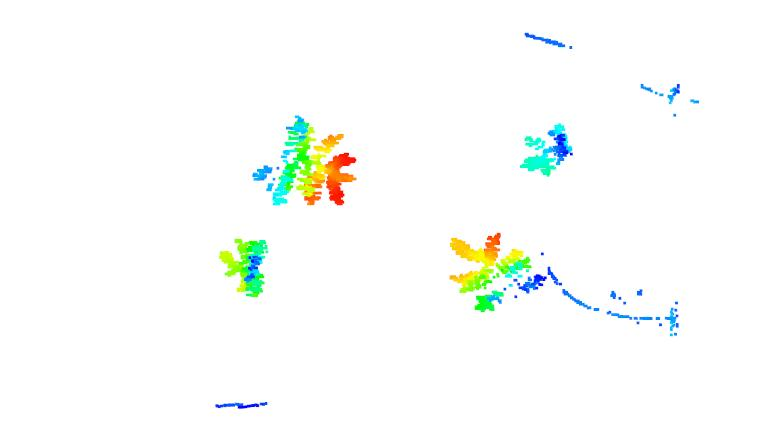chickpea: (249, 112, 361, 215), (447, 228, 548, 311), (218, 235, 272, 303), (518, 118, 575, 178)
